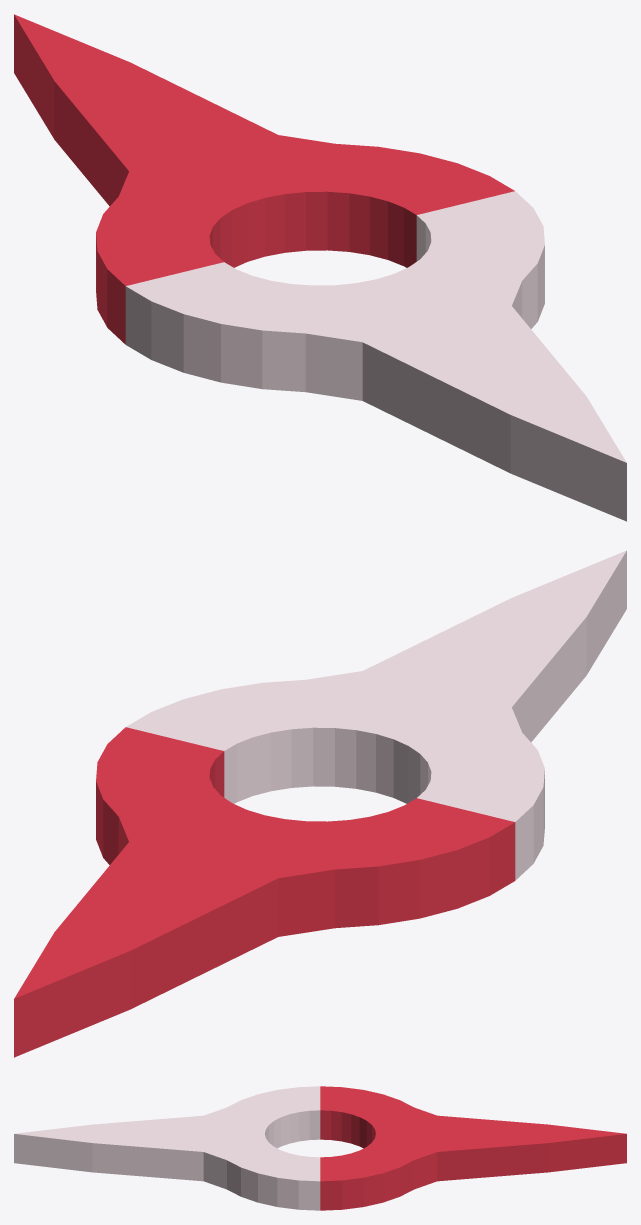
File: Compas.fbx
The picture shows the model from 3 angles, top to bottom: view 1: azimuth 30°, elevation 25°; view 2: azimuth 150°, elevation 25°; view 3: azimuth 270°, elevation 25°; orthographic projection. The views are drawn at different scales.
Parts seen in each view (by area): view 1: Cylinder; view 2: Cylinder; view 3: Cylinder.
Boxes of the visible parts, bbox=[...] form: Cylinder: bbox=[14, 14, 626, 521]; Cylinder: bbox=[14, 550, 626, 1057]; Cylinder: bbox=[14, 1086, 626, 1210].
Size of the model in its own units: 20 by 2.88 by 54.49.
